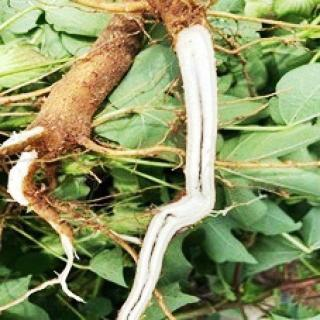wilt: (179, 104, 223, 232)
